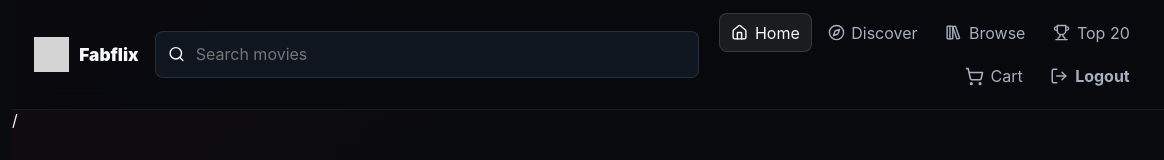
Test: NavBar › submits a normal search when no suggestion is selected
This screenshot has width=1164, height=160.
Type "Matrix" into the field labelled "Search movies" at (440, 54), box left=196, top=32, right=685, bottom=76
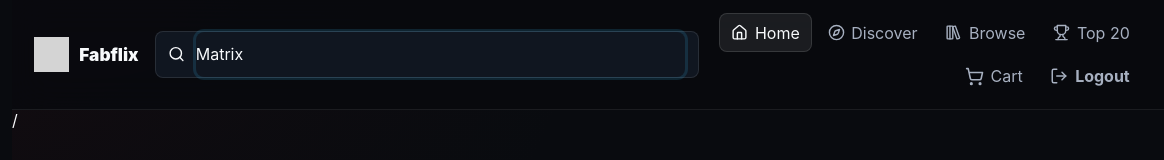
Press Enter
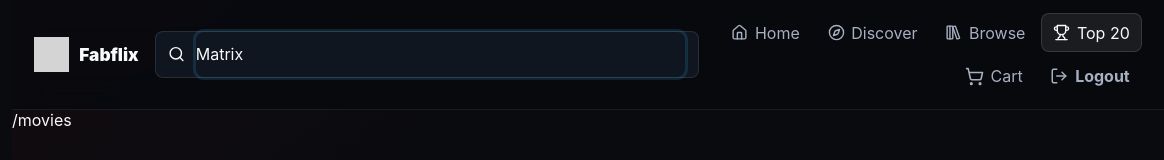
Check: the text with test id "location" reads "/movies", box left=12, top=110, right=72, bottom=130
